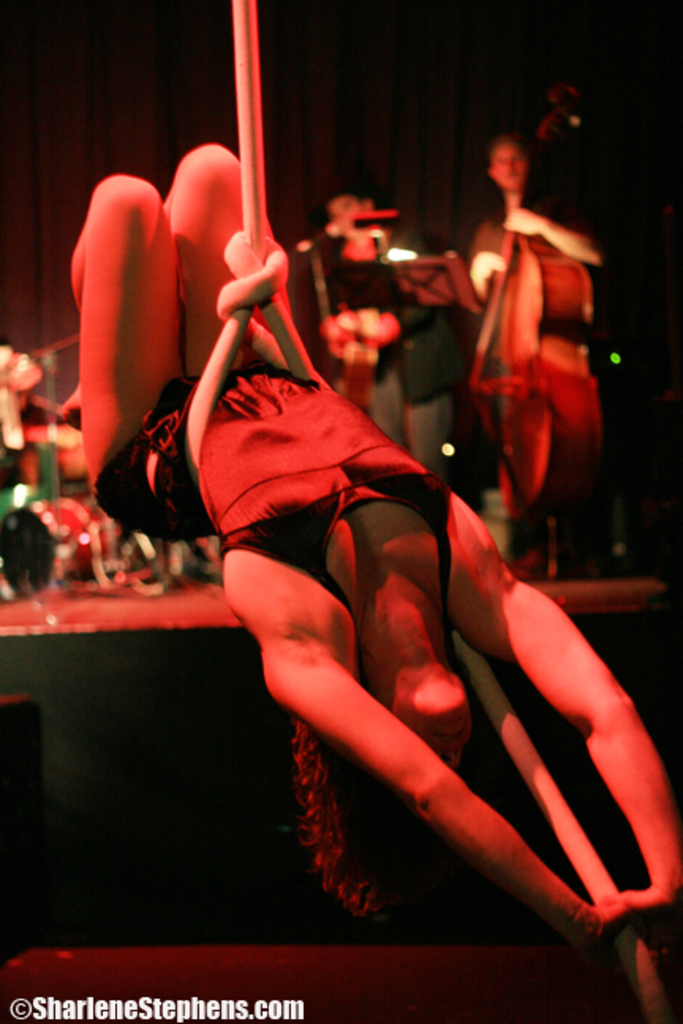Person: (71, 143, 682, 975)
